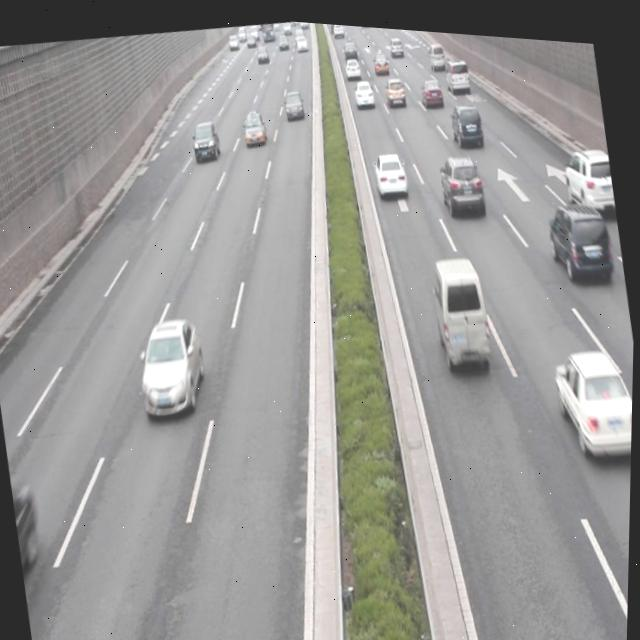car: (548, 328, 635, 460), (133, 313, 215, 420), (545, 189, 614, 279), (558, 133, 619, 216), (434, 144, 486, 213), (371, 145, 410, 196), (447, 93, 485, 143), (190, 114, 224, 166)
truck: (428, 243, 495, 368)
